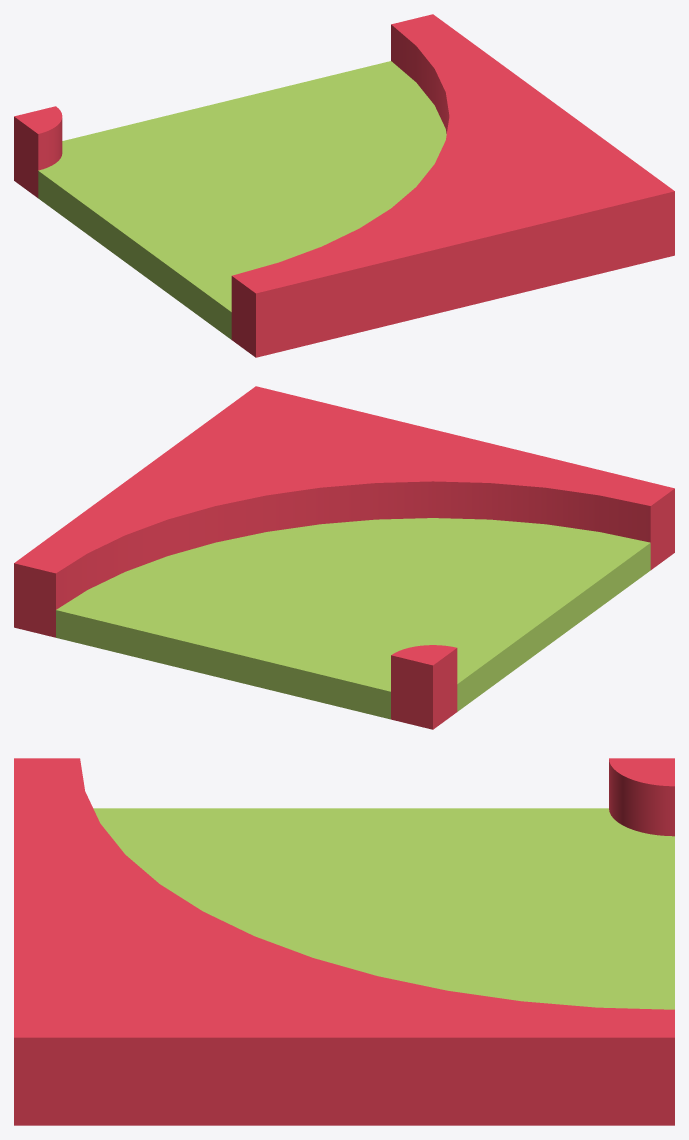
The model's file is roundCornerB.fbx.
3 renders of one model, top to bottom at view 1: azimuth 30°, elevation 25°; view 2: azimuth 150°, elevation 25°; view 3: azimuth 270°, elevation 25°, orthographic. The views are drawn at different scales.
Parts seen in each view (by area): view 1: roundCornerB; view 2: roundCornerB; view 3: roundCornerB.
Part boxes in pixels (box(x1,y1,x2,y2)): roundCornerB: box(14, 14, 674, 357); roundCornerB: box(14, 386, 674, 729); roundCornerB: box(14, 758, 674, 1125).
Bounding box in the file's own units: 10 × 1.47 × 10.
